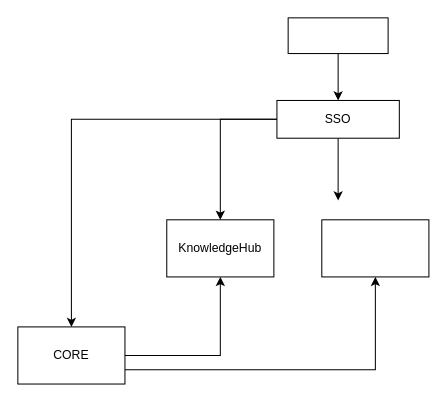
Image size: 447x402. Some labels were removed from this diagram. The centre of each missing label's shape, as x and y in pixels:
"Edusystems" goes at point (337, 35).
"PEP" goes at point (375, 248).
